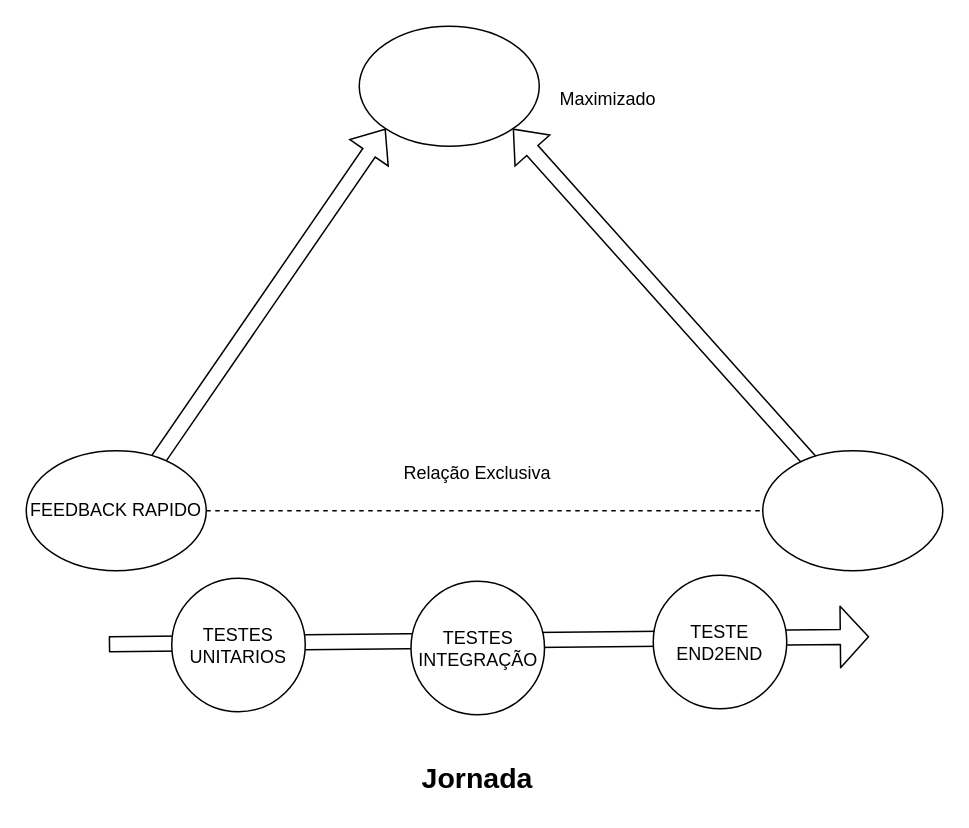
This 969x828 diagram has some shape labels left out. Here are the shapes that lost their labels. From the top down, the centre of each, then its label:
At pixel 448 85: "RESISTÊNCIA A REFATORAÇÃO".
At pixel 852 510: "PROTEÇÃO CONTRA REGRESSÕES".
